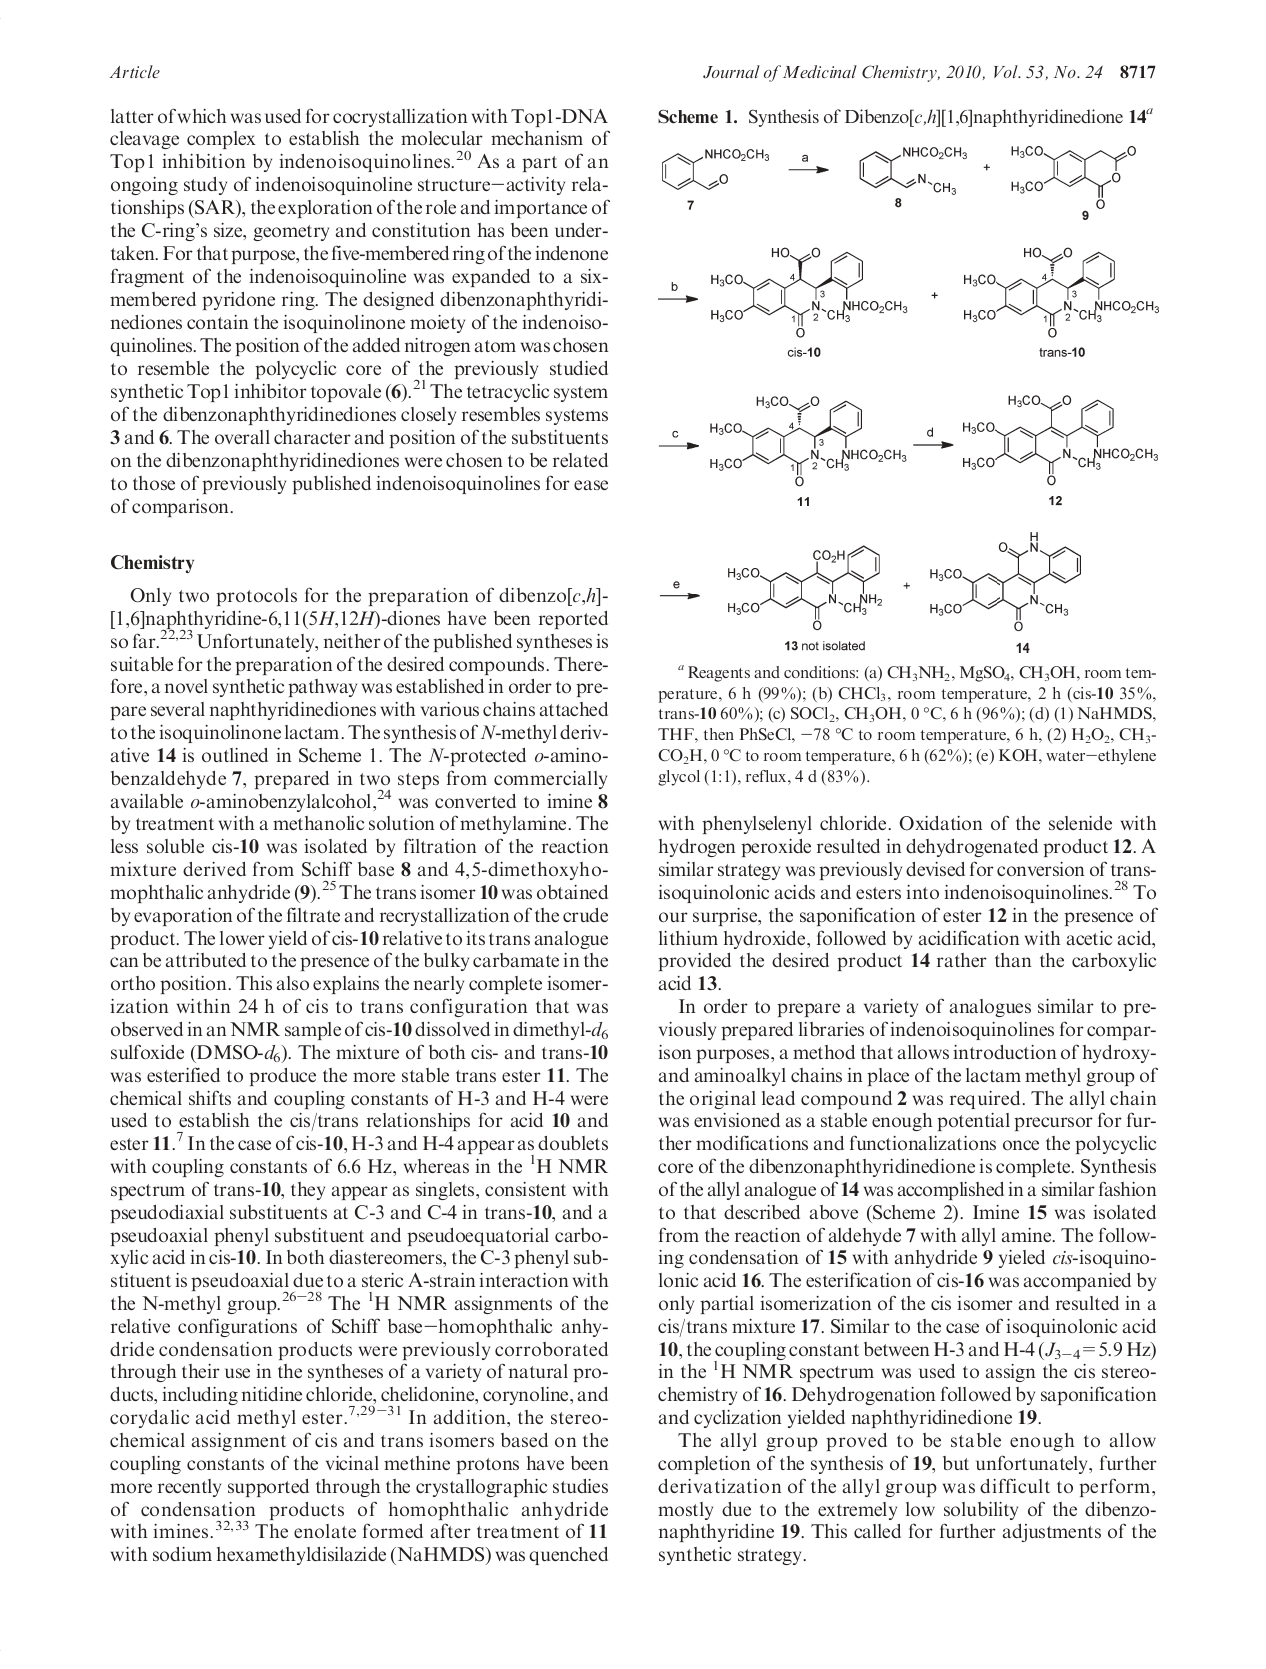exist_molecular: (709, 394, 908, 488), (961, 391, 1161, 485), (707, 246, 910, 339), (961, 245, 1161, 338), (928, 531, 1082, 633), (726, 543, 884, 632), (1009, 144, 1138, 211), (856, 144, 969, 195), (660, 146, 771, 192)
